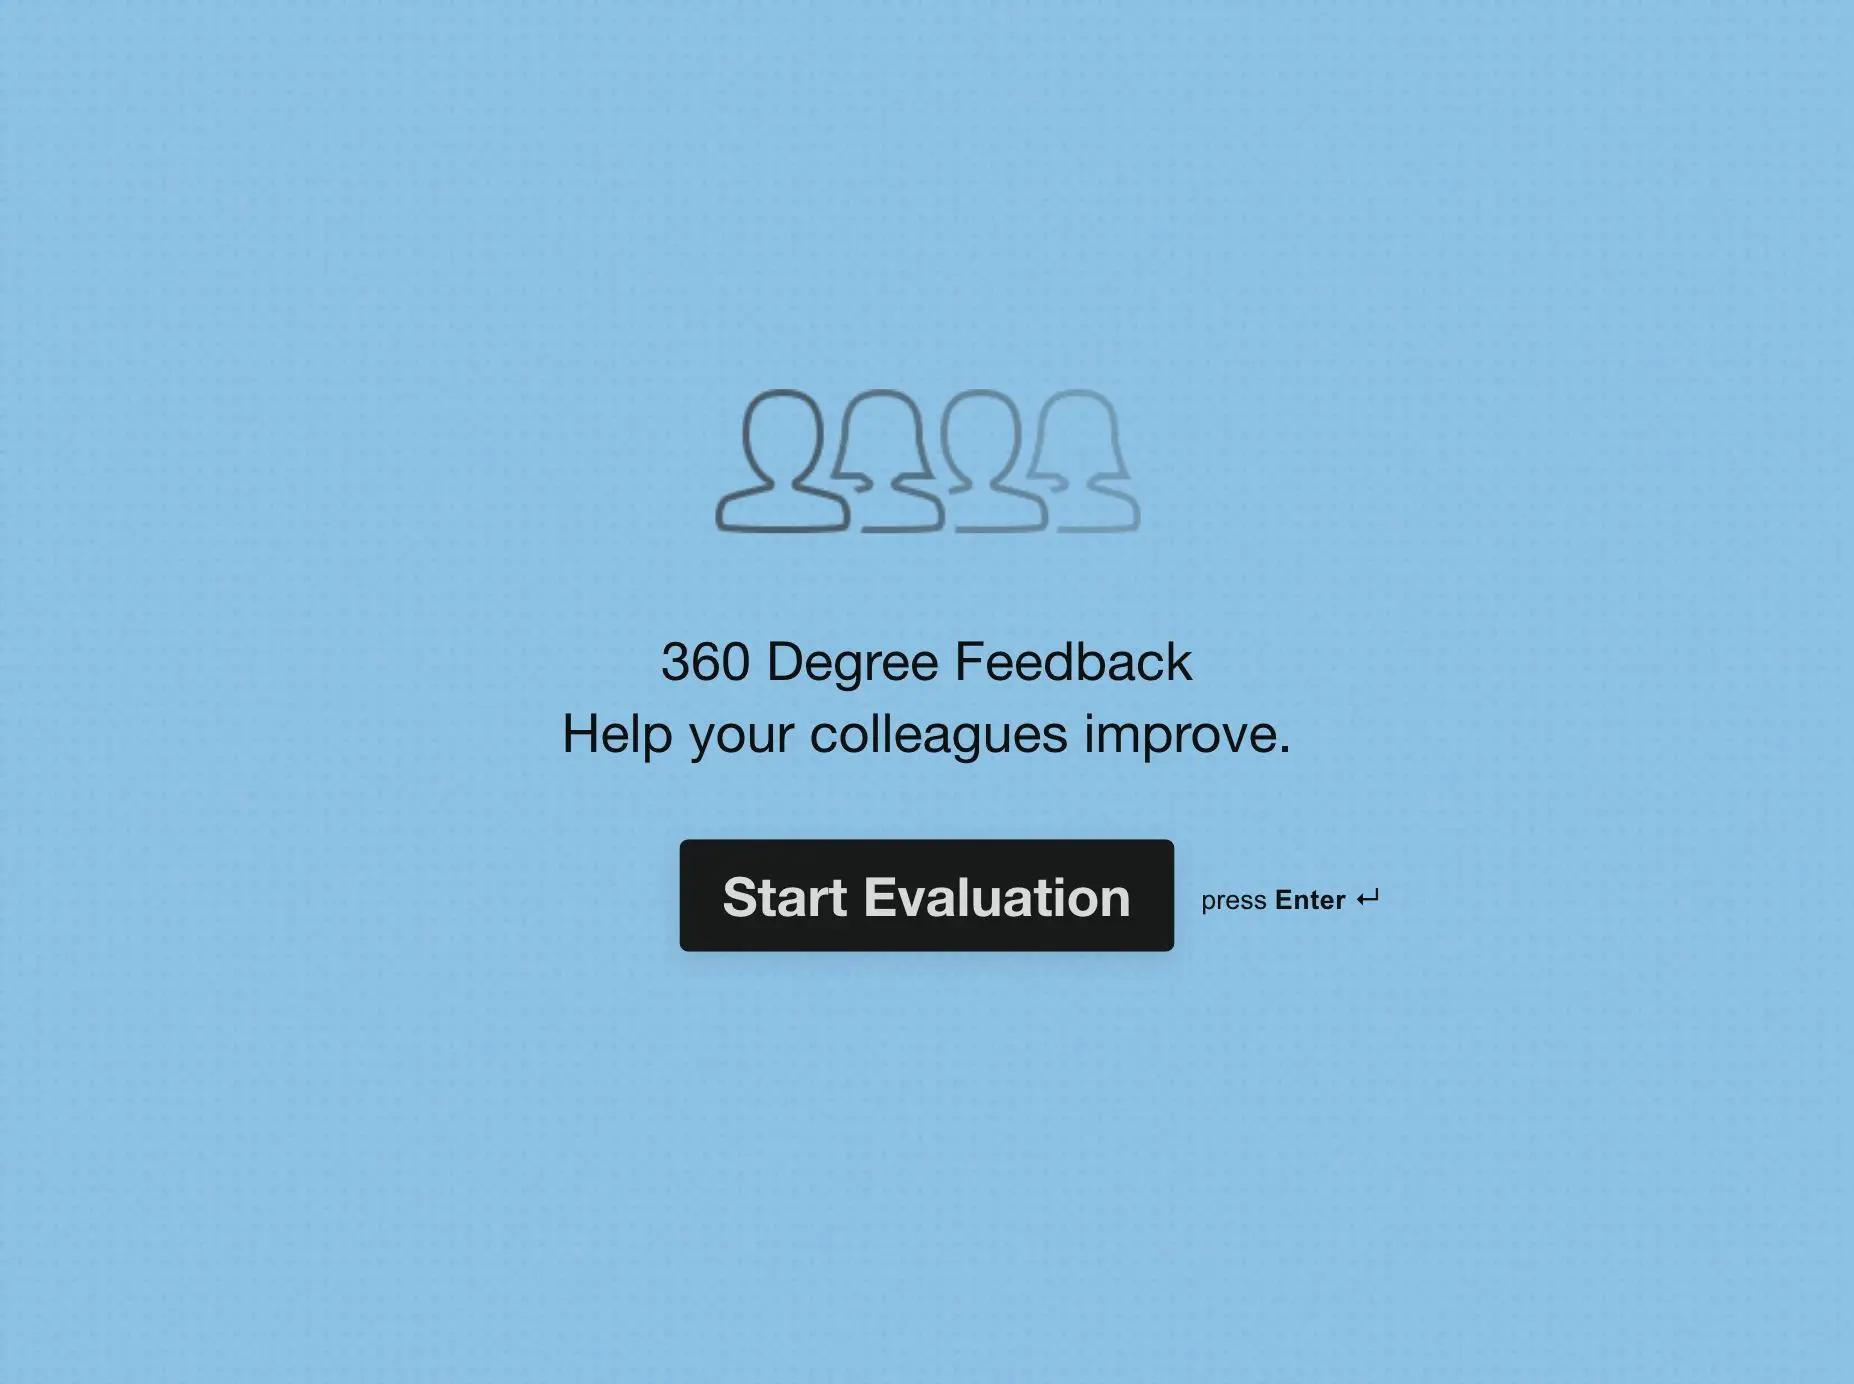button: (682, 842, 1179, 955)
